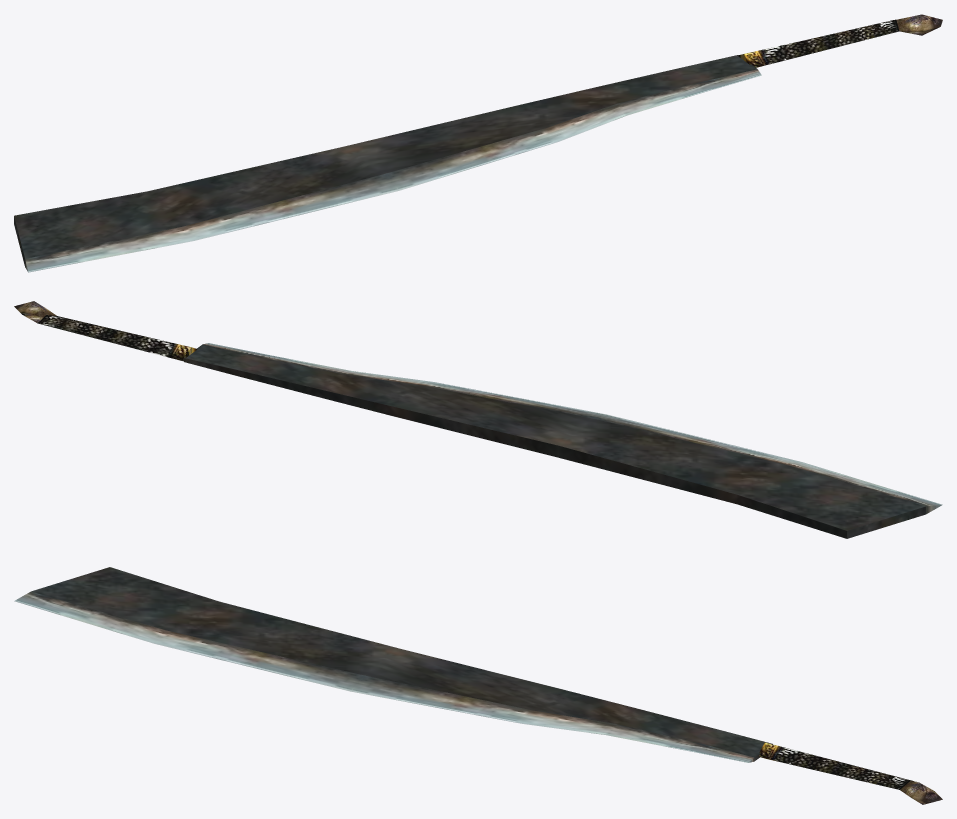
The model's file is ITMW_2H_MACHETE_01.glb.
3 renders of one model, top to bottom at view 1: azimuth 30°, elevation 25°; view 2: azimuth 150°, elevation 25°; view 3: azimuth 330°, elevation 25°, orthographic. The views are drawn at different scales.
Visible parts, largest first — view 1: ITMW_2H_MACHETE_01; view 2: ITMW_2H_MACHETE_01; view 3: ITMW_2H_MACHETE_01.
Part boxes in pixels (<box>): ITMW_2H_MACHETE_01: <box>14,14,942,272</box>; ITMW_2H_MACHETE_01: <box>14,301,942,538</box>; ITMW_2H_MACHETE_01: <box>14,567,942,804</box>.
Size of the model in its own units: 1.38 by 0.0297 by 0.168.
3 materials, 3 textured.
